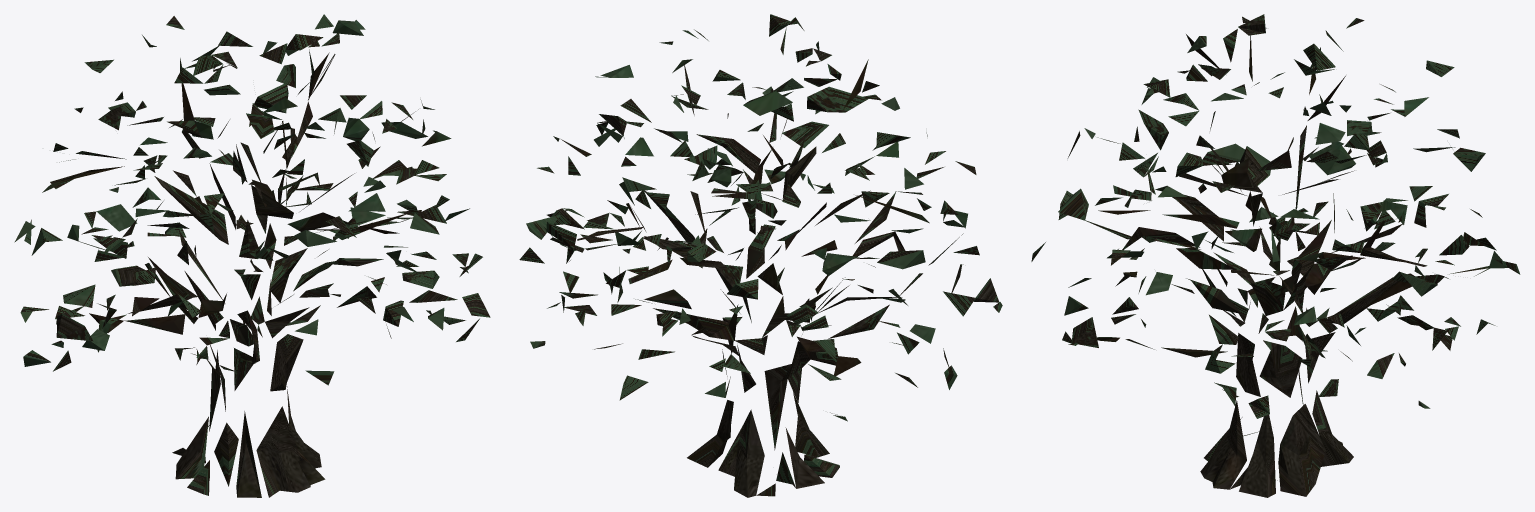
File: nat_oak_a_LOD2.glb
3 renders of one model, left to right at view 1: azimuth 30°, elevation 25°; view 2: azimuth 150°, elevation 25°; view 3: azimuth 270°, elevation 25°, orthographic. The views are drawn at different scales.
Parts seen in each view (by area): view 1: geometry_0; view 2: geometry_0; view 3: geometry_0.
Part boxes in pixels (box(x1,y1,x2,y2)): geometry_0: box(14, 14, 490, 497); geometry_0: box(519, 14, 1002, 497); geometry_0: box(1031, 14, 1520, 497).
Size of the model in its own units: 9.46 by 8.85 by 9.02.
1 material, 1 textured.
